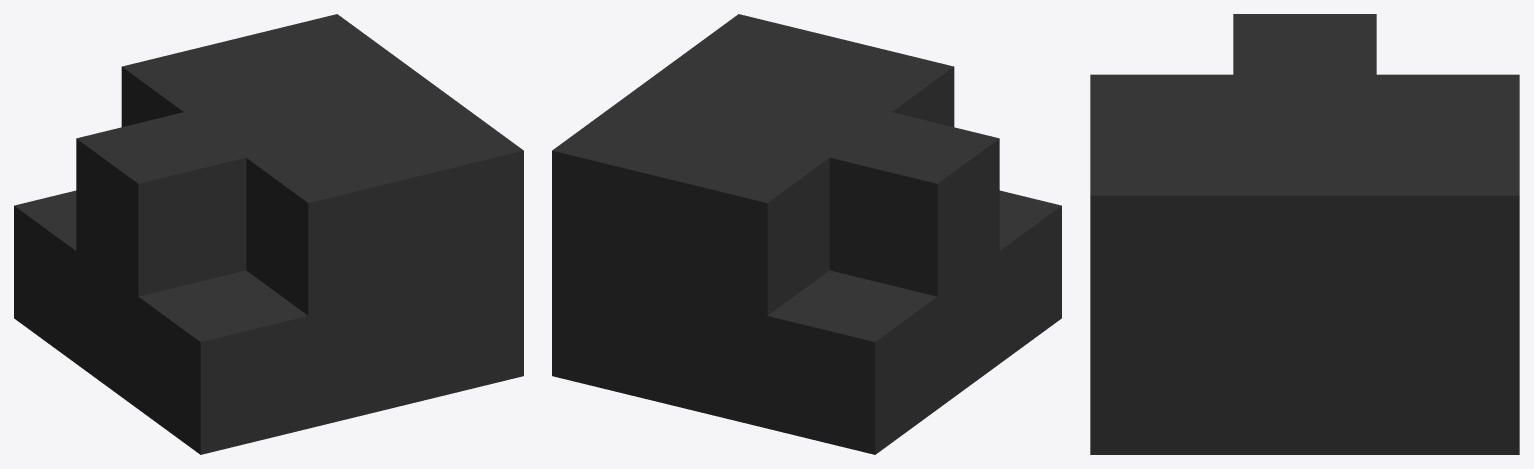
File: bat-0-sleep.obj
The picture shows the model from 3 angles, left to right: view 1: azimuth 30°, elevation 25°; view 2: azimuth 150°, elevation 25°; view 3: azimuth 270°, elevation 25°; orthographic projection. The views are drawn at different scales.
Parts seen in each view (by area): view 1: sleep; view 2: sleep; view 3: sleep.
Boxes of the visible parts, box(x1,y1,x2,y2) form: sleep: box(14, 14, 523, 454); sleep: box(552, 14, 1061, 454); sleep: box(1090, 14, 1519, 454).
Size of the model in its own units: 0.3 by 0.2 by 0.3.
Materials: 1 (1 with a texture image).
